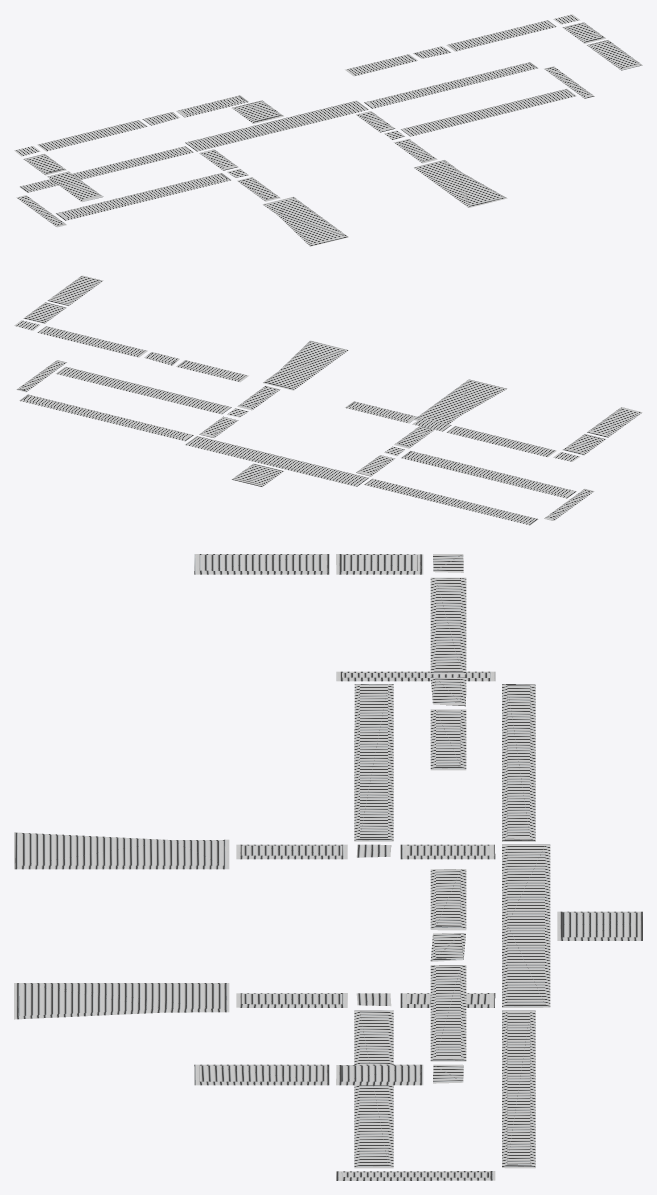
Rendered from FootballStadium_InnerWallsFloorsCeilings_FieldStuff_Railings_InsideWallsCeiling.FBX.
3 views of the same model, one above another, from view 1: azimuth 30°, elevation 25°; view 2: azimuth 150°, elevation 25°; view 3: azimuth 270°, elevation 25° (orthographic). The views are drawn at different scales.
Visible parts, largest first — view 1: FootballStadium_InnerWallsFloorsCeilings_FieldStuff_Railings; view 2: FootballStadium_InnerWallsFloorsCeilings_FieldStuff_Railings; view 3: FootballStadium_InnerWallsFloorsCeilings_FieldStuff_Railings.
Boxes of the visible parts, left/top/right/bottom form: FootballStadium_InnerWallsFloorsCeilings_FieldStuff_Railings: left=14, top=14, right=642, bottom=246; FootballStadium_InnerWallsFloorsCeilings_FieldStuff_Railings: left=14, top=275, right=642, bottom=525; FootballStadium_InnerWallsFloorsCeilings_FieldStuff_Railings: left=14, top=554, right=642, bottom=1180.
Bounding box in the file's own units: 9497 × 4752 × 902.
